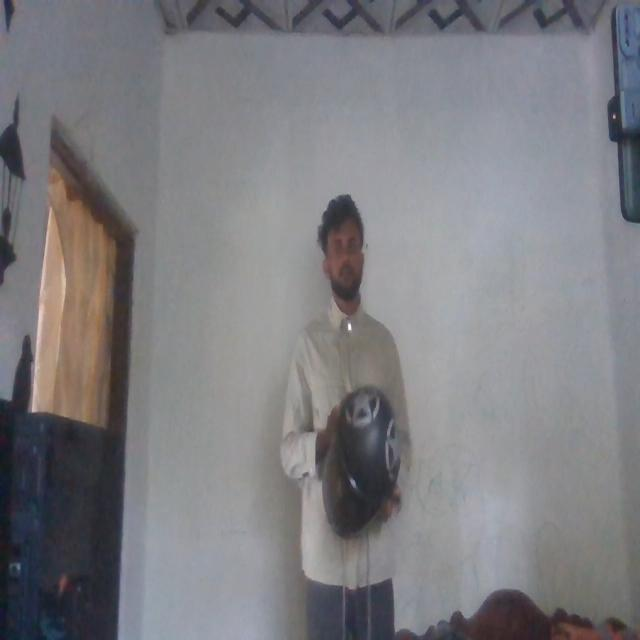Jacket_Wearer: (272, 299, 416, 590)
Person: (278, 189, 418, 640)
